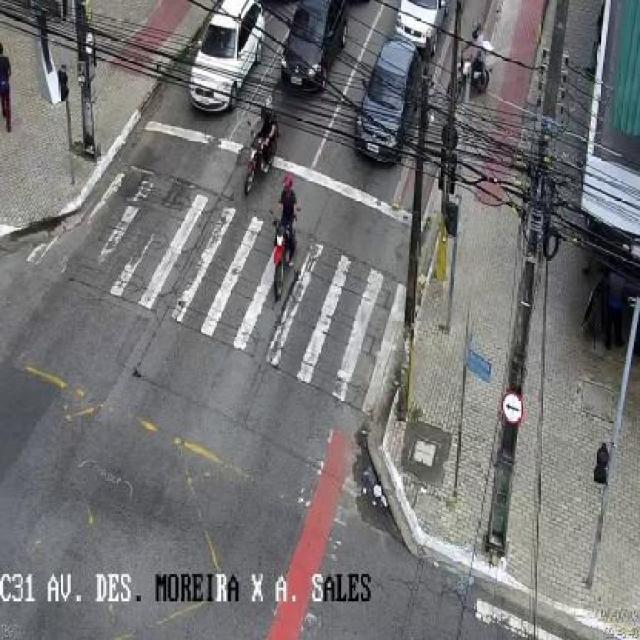Car: (184, 0, 267, 114), (354, 45, 429, 163), (279, 0, 353, 91), (393, 0, 450, 42)
Cycle: (234, 93, 282, 197), (267, 174, 302, 302)
